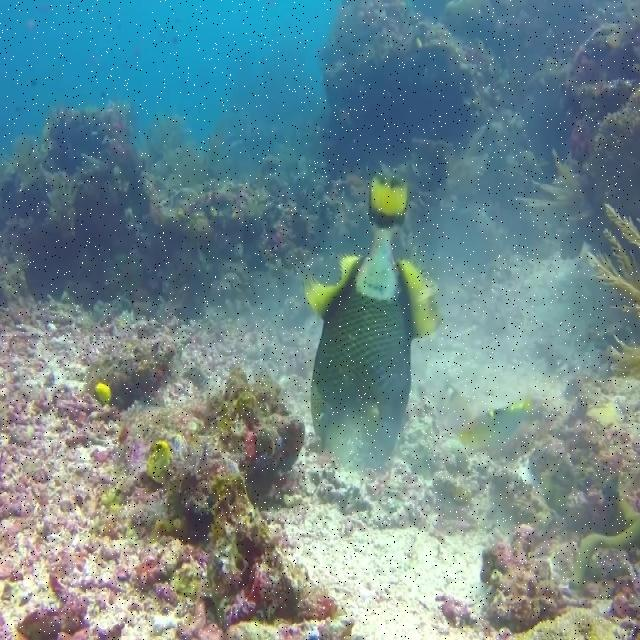fish: (302, 175, 444, 467), (457, 401, 530, 449)
reefs: (0, 0, 638, 333)
sea-floor: (2, 209, 638, 637)
